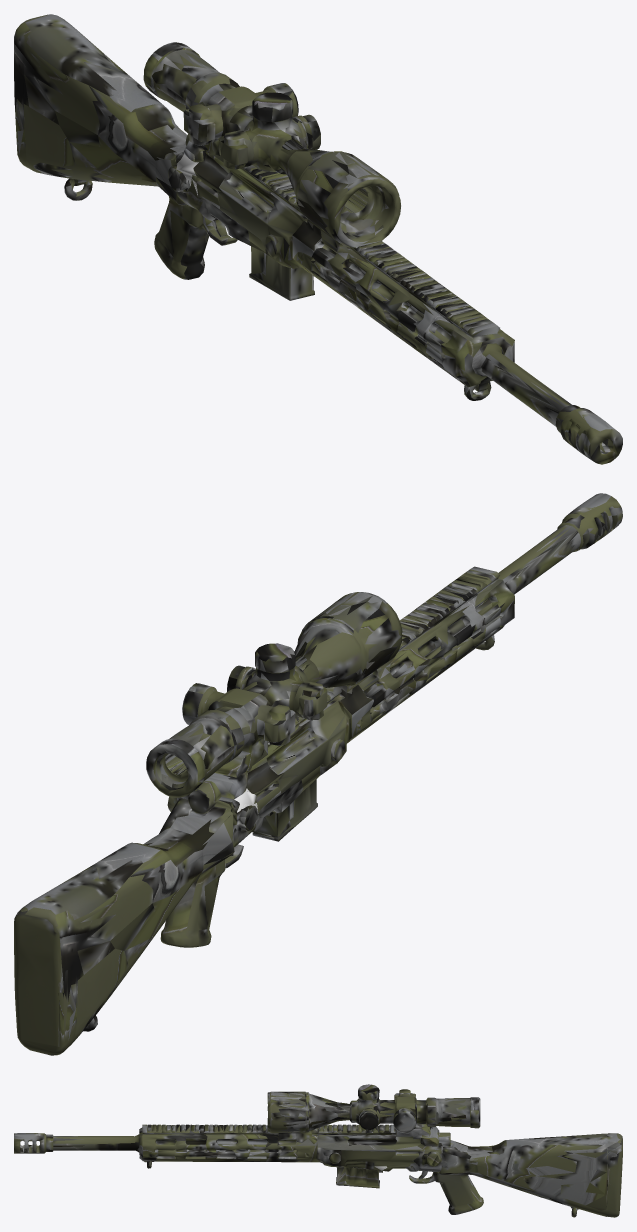
The picture shows the model from 3 angles, top to bottom: view 1: azimuth 30°, elevation 25°; view 2: azimuth 150°, elevation 25°; view 3: azimuth 270°, elevation 25°; orthographic projection. The views are drawn at different scales.
Parts seen in each view (by area): view 1: Body, Magazine; view 2: Body, Magazine; view 3: Body, Magazine, ChargingHandle.
Part boxes in pixels (x1,y1,x2,y2): Body: (14,14,622,464); Magazine: (228,227,314,300); Body: (14,493,622,1055); Magazine: (252,774,321,841); Body: (14,1084,622,1217); Magazine: (326,1165,384,1188); ChargingHandle: (417,1140,451,1164).
Size of the model in its own units: 0.1684 by 0.3944 by 1.69.
